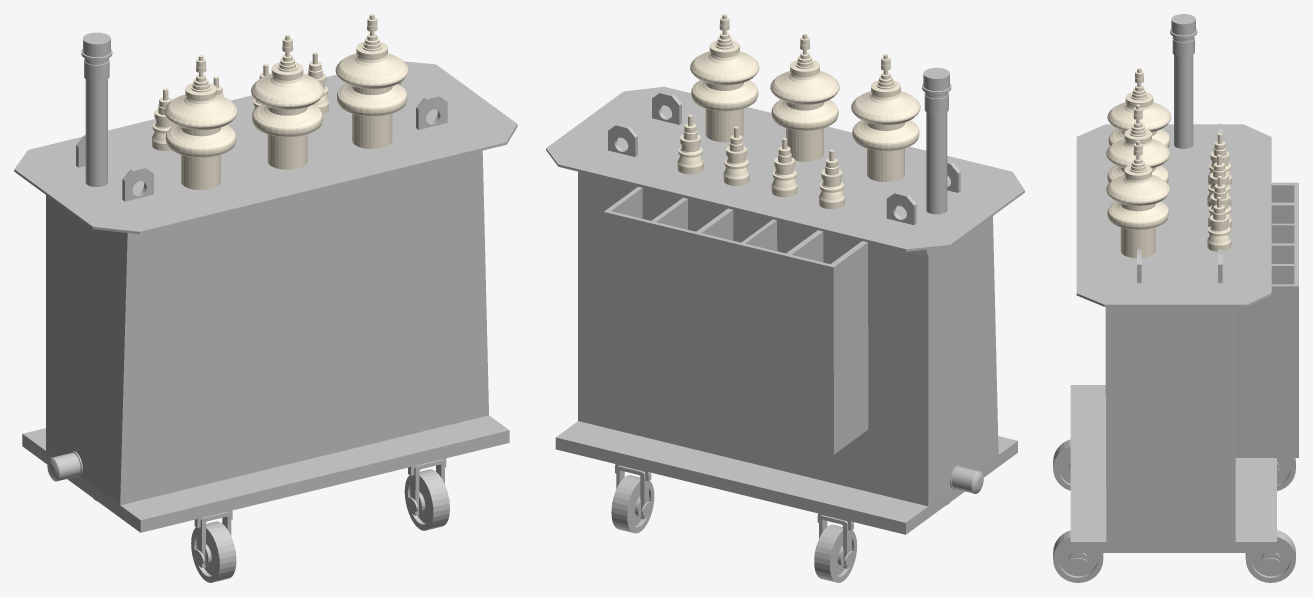
File: TSN.fbx
The picture shows the model from 3 angles, left to right: view 1: azimuth 30°, elevation 25°; view 2: azimuth 150°, elevation 25°; view 3: azimuth 270°, elevation 25°; orthographic projection. The views are drawn at different scales.
Visible parts, largest first — view 1: TSN, Cylinder.005, Cylinder.004, Cylinder.006, Колесо.003, Колесо.002, Cube.002, Cube.003, Cylinder.003; view 2: TSN, Cylinder.006, Cylinder.004, Cylinder.005, Колесо, Колесо.001, Cylinder.002, Cylinder, Cylinder.001, Cylinder.003, Cube, Cube.001 (+1 smaller); view 3: TSN, Cylinder.004, Cylinder.006, Cylinder.005, Колесо, Колесо.002, Cylinder, Колесо.003, Cylinder.002, Cylinder.003, Колесо.001, Cylinder.001.
Boxes of the visible parts, bbox=[...] form: TSN: bbox=[14, 32, 517, 532]; Cylinder.005: bbox=[251, 34, 323, 169]; Cylinder.004: bbox=[335, 14, 408, 148]; Cylinder.006: bbox=[164, 55, 237, 190]; Колесо.003: bbox=[191, 510, 236, 582]; Колесо.002: bbox=[404, 458, 449, 530]; Cube.002: bbox=[416, 94, 447, 129]; Cube.003: bbox=[122, 166, 153, 201]; Cylinder.003: bbox=[152, 88, 174, 150]; TSN: bbox=[546, 67, 1024, 534]; Cylinder.006: bbox=[851, 54, 920, 181]; Cylinder.004: bbox=[690, 14, 759, 142]; Cylinder.005: bbox=[770, 33, 839, 161]; Колесо: bbox=[611, 464, 654, 533]; Колесо.001: bbox=[814, 513, 856, 582]; Cylinder.002: bbox=[771, 137, 797, 197]; Cylinder: bbox=[677, 114, 703, 174]; Cylinder.001: bbox=[723, 126, 749, 185]; Cylinder.003: bbox=[819, 149, 844, 209]; Cube: bbox=[886, 191, 916, 224]; Cube.001: bbox=[608, 123, 637, 156]; TSN: bbox=[1070, 14, 1298, 552]; Cylinder.004: bbox=[1106, 140, 1169, 258]; Cylinder.006: bbox=[1107, 68, 1171, 147]; Cylinder.005: bbox=[1106, 104, 1169, 182]; Колесо: bbox=[1245, 530, 1295, 582]; Колесо.002: bbox=[1053, 530, 1103, 582]; Cylinder: bbox=[1207, 197, 1231, 251]; Колесо.003: bbox=[1053, 439, 1070, 490]; Cylinder.002: bbox=[1207, 154, 1231, 206]; Cylinder.003: bbox=[1208, 133, 1231, 185]; Колесо.001: bbox=[1277, 458, 1295, 490]; Cylinder.001: bbox=[1208, 176, 1231, 228].
Size of the model in its own units: 90.94 by 105 by 52.32.
